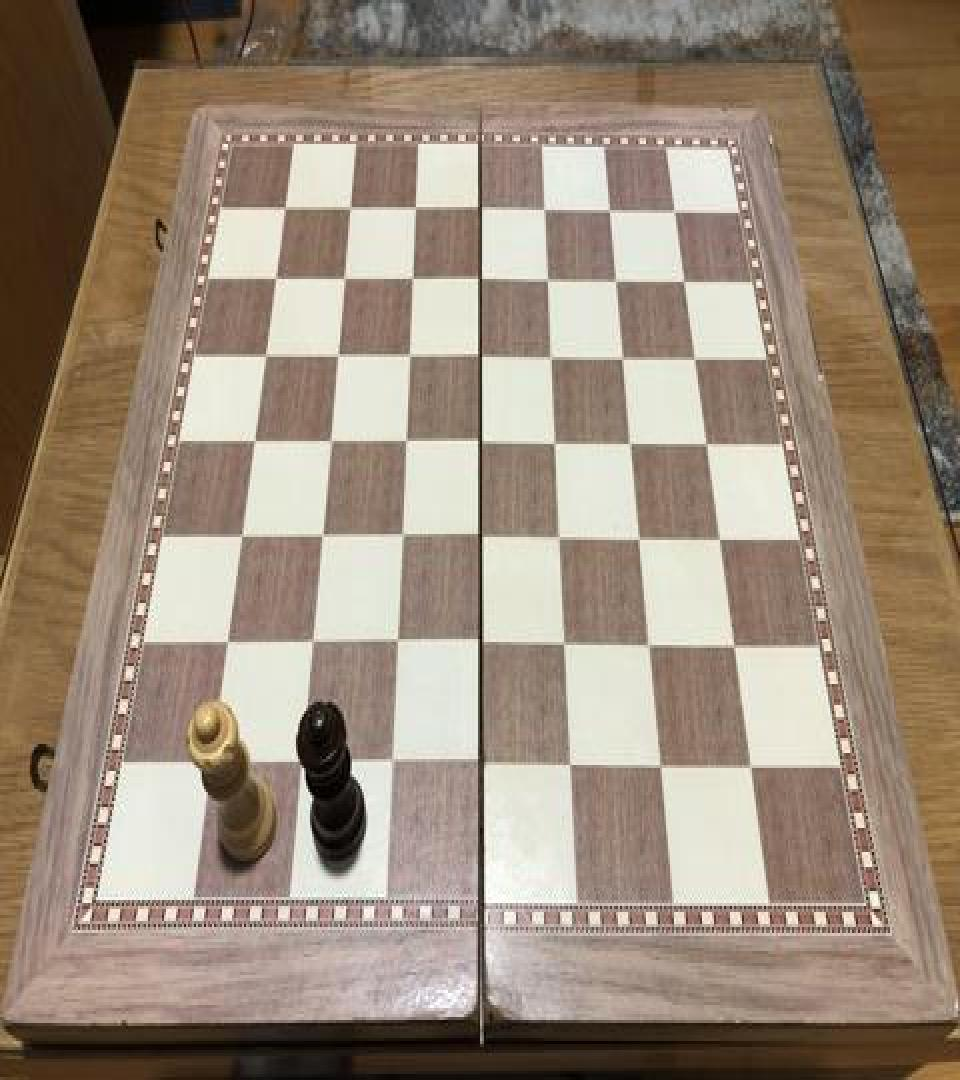xcorner: (629, 520, 653, 557), (549, 520, 573, 557), (468, 520, 492, 557), (388, 520, 412, 557), (308, 520, 332, 557), (228, 520, 252, 557), (724, 625, 748, 662), (639, 625, 663, 662), (554, 625, 578, 662), (469, 625, 493, 662), (384, 625, 408, 662), (299, 625, 323, 662), (214, 625, 238, 662), (664, 195, 688, 231), (599, 195, 623, 231), (533, 195, 557, 231), (468, 195, 492, 231), (402, 195, 426, 231), (337, 195, 361, 231), (272, 196, 296, 232), (674, 264, 698, 300), (605, 264, 629, 300), (536, 264, 560, 300), (468, 264, 492, 300), (399, 264, 423, 300), (331, 266, 355, 302), (262, 266, 286, 302), (685, 340, 709, 376), (612, 340, 636, 376), (540, 340, 564, 376), (468, 340, 492, 376), (396, 340, 420, 376), (324, 342, 348, 378), (252, 342, 276, 378), (696, 426, 720, 462), (620, 426, 644, 462), (544, 426, 568, 462), (468, 426, 492, 462), (392, 426, 416, 462), (317, 426, 341, 462), (241, 426, 265, 462), (710, 519, 734, 555), (741, 746, 765, 782), (650, 746, 674, 782), (560, 744, 584, 780), (469, 744, 493, 780), (379, 744, 403, 780), (288, 744, 312, 780), (198, 744, 222, 780)
